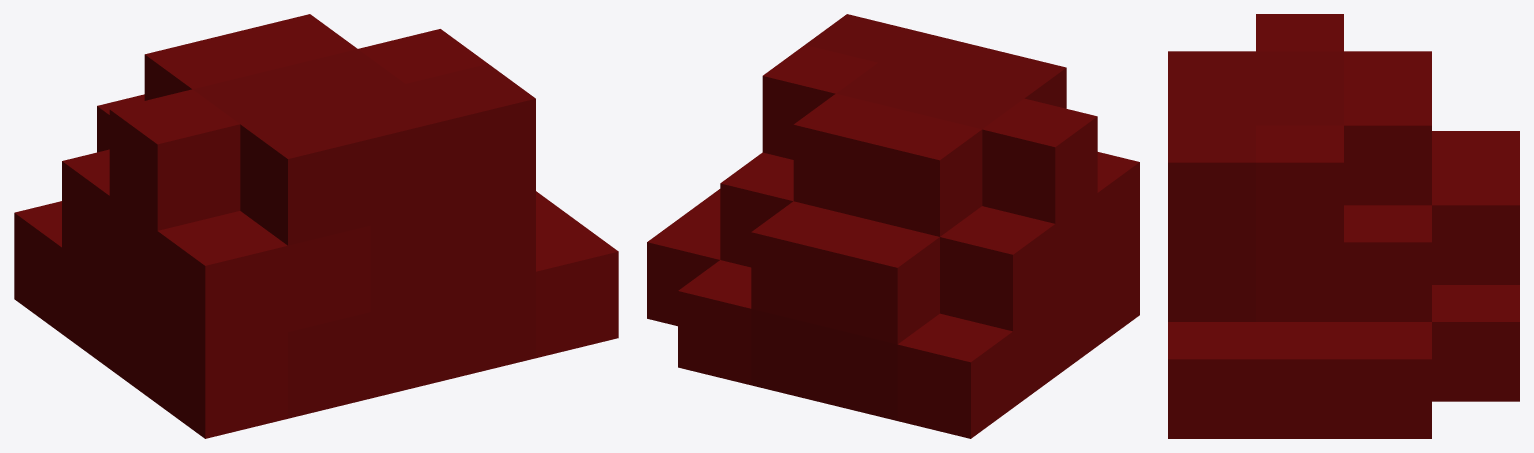
File: amnyam_anger-2.obj
3 renders of one model, left to right at view 1: azimuth 30°, elevation 25°; view 2: azimuth 150°, elevation 25°; view 3: azimuth 270°, elevation 25°, orthographic. The views are drawn at different scales.
Bounding box in the file's own units: 0.5 × 0.3 × 0.4.
Materials: 1 (1 with a texture image).
